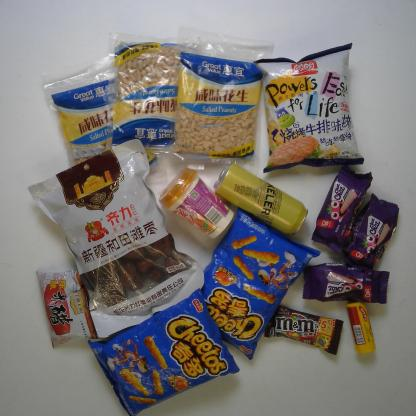Alcohol: (211, 160, 311, 239)
Candy: (341, 295, 382, 358)
Chocolate: (264, 302, 342, 362)
Dessert: (310, 163, 375, 258), (341, 192, 402, 275), (298, 260, 392, 306)
Dried Food: (26, 137, 204, 339)
Dried Fruit: (166, 22, 275, 172), (38, 60, 164, 180), (106, 32, 198, 159)
Instant Drink: (155, 164, 238, 241)
Puffed Food: (85, 284, 241, 412), (195, 206, 322, 362), (249, 42, 372, 176)
Seasoner: (32, 261, 99, 350)
